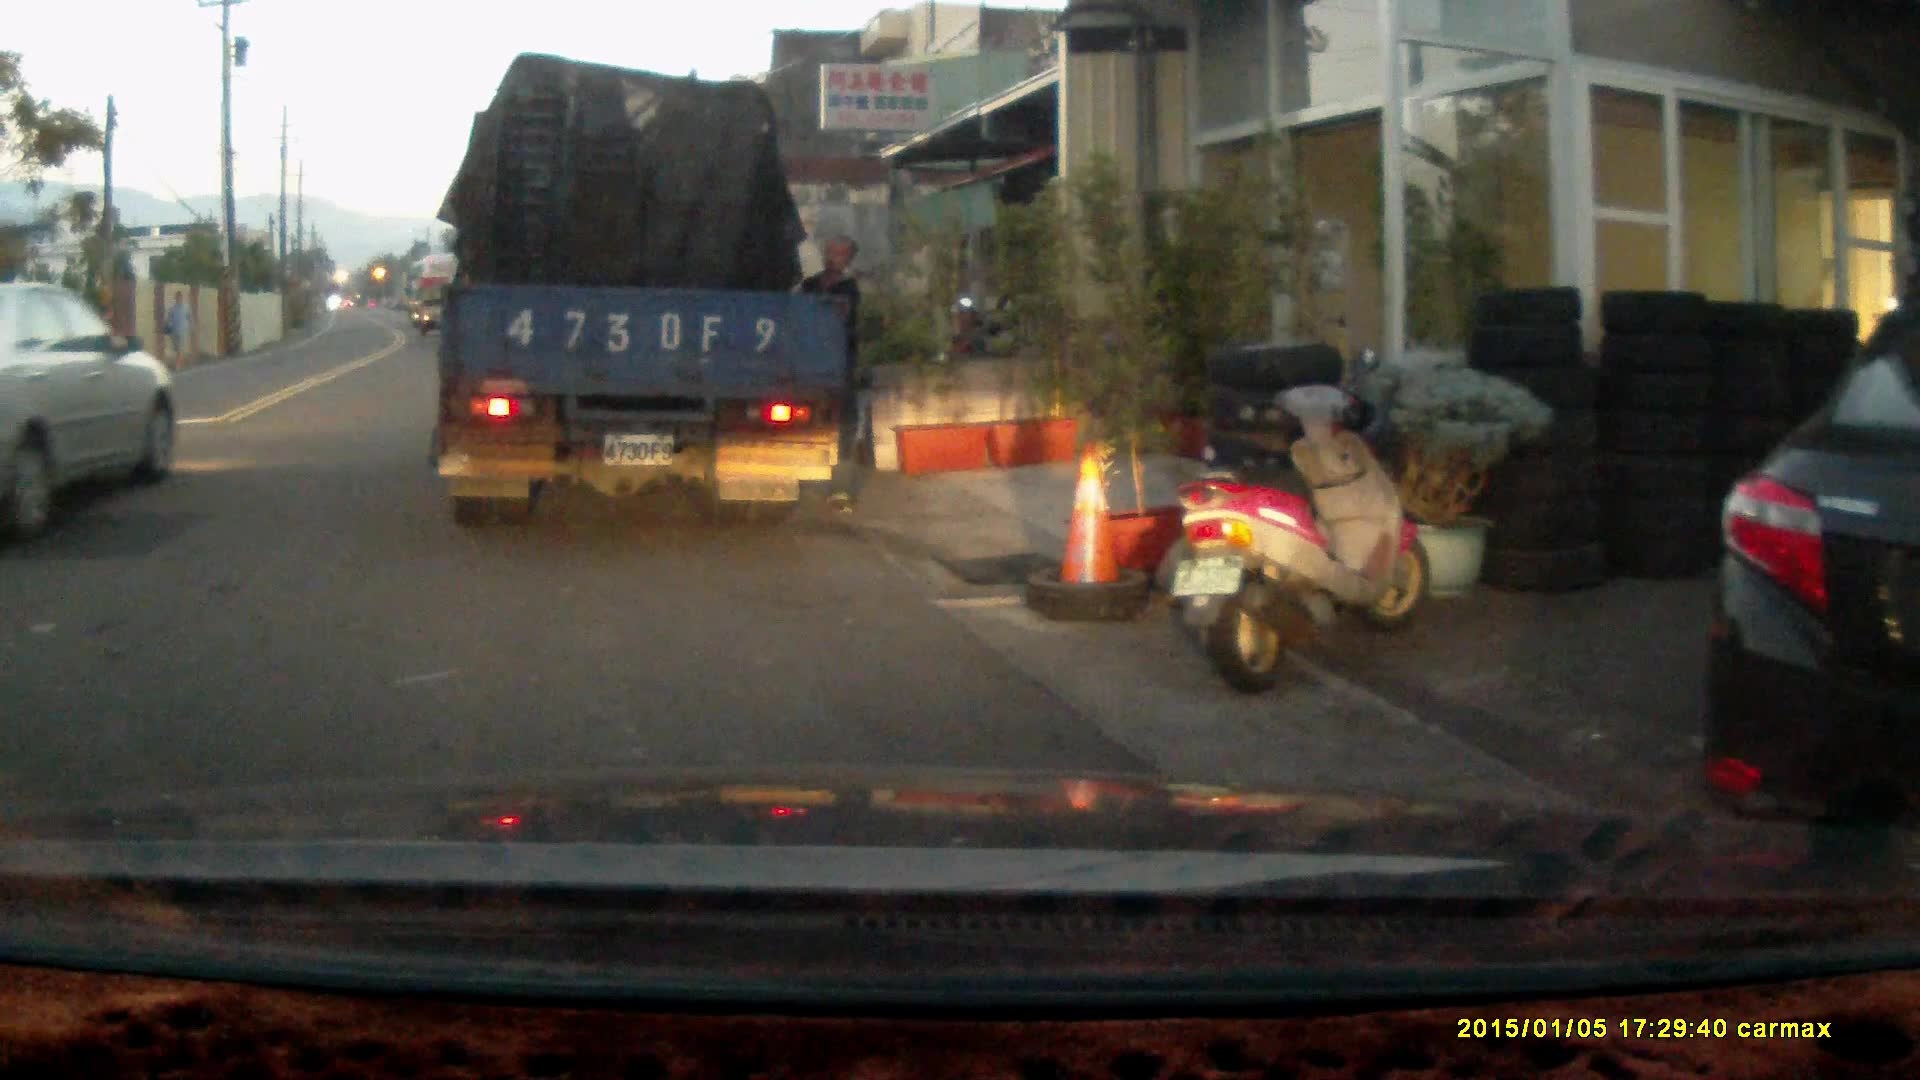pedestrian: (799, 235, 869, 520), (161, 287, 197, 364)
vehicle: (435, 62, 856, 519), (1691, 260, 1919, 860), (1, 282, 175, 516), (408, 253, 468, 325), (422, 280, 466, 338)
